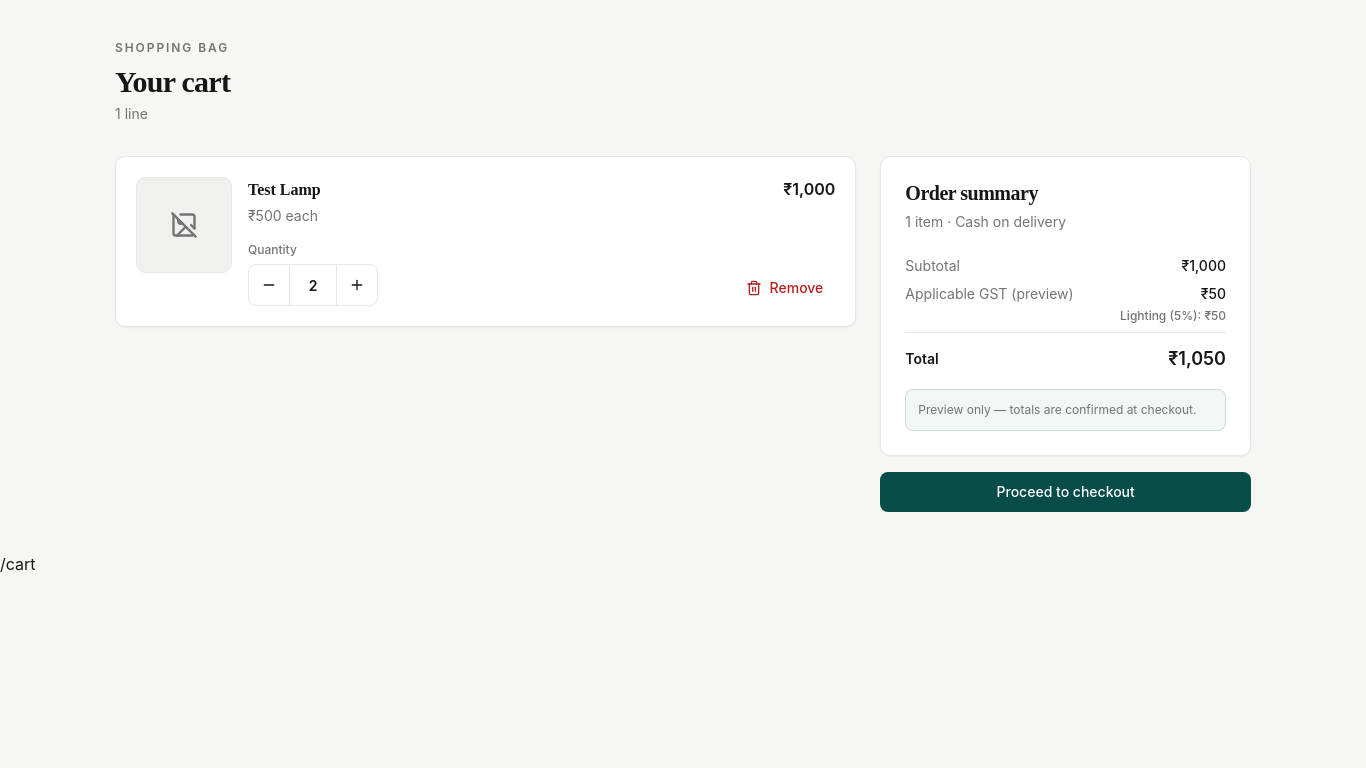
Test: CartPage › removes an item only after confirmation
Expected: the link "Test Lamp" is shown, [248,181,321,198]
Click the button "Remove" at (784, 288), box [734,270,835,306]
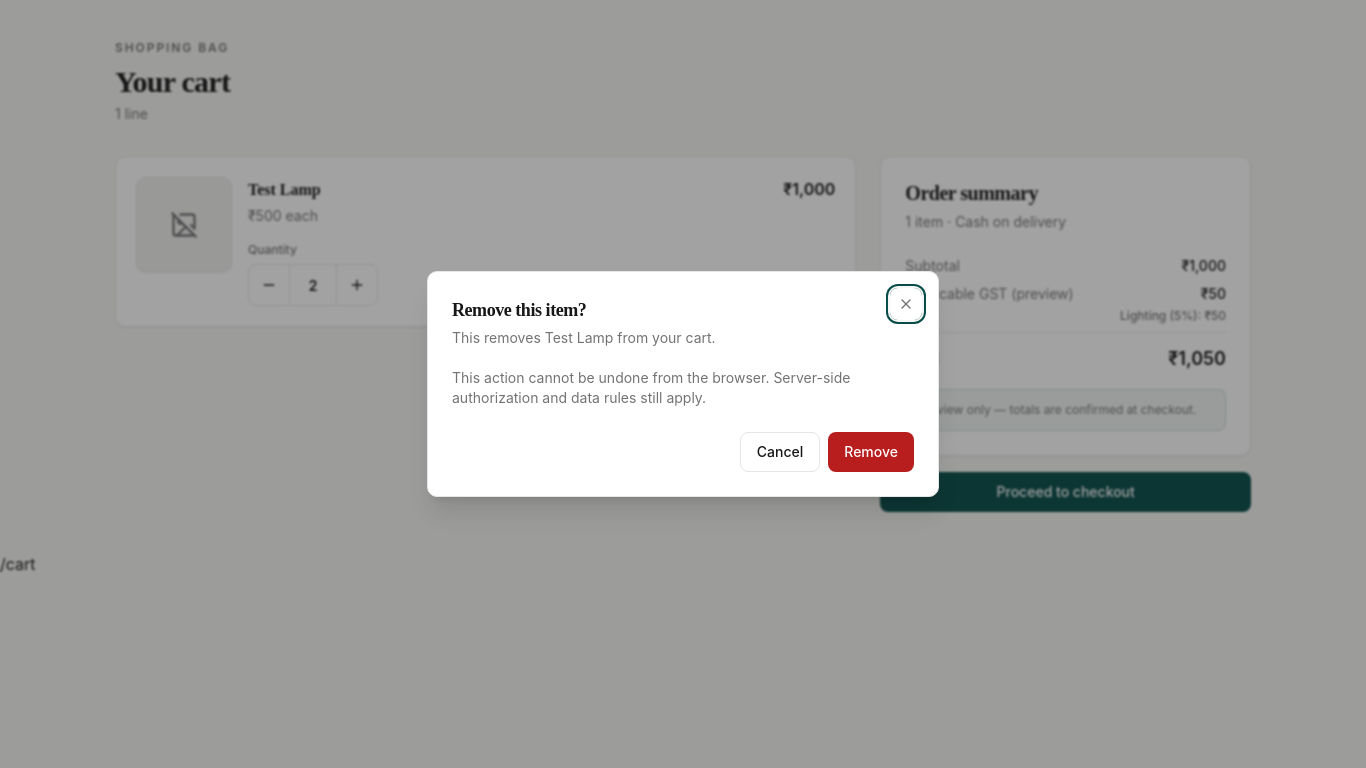
Expected: the text "This removes Test Lamp from your cart." is shown, [452,329,716,346]
Click the button "Remove" at (871, 452), box [828,432,914,472]
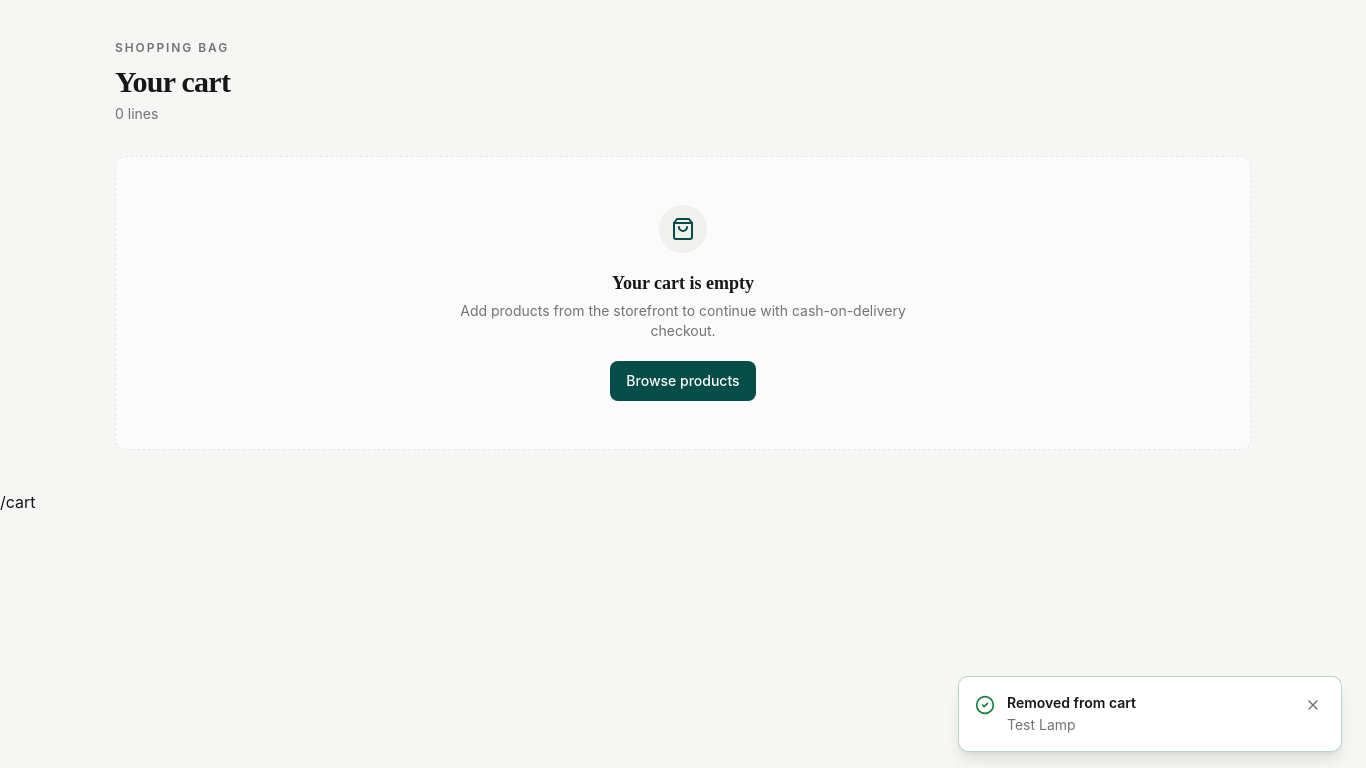
Expected: the text "Removed from cart" is shown, [1007,694,1136,711]
Expected: the heading "Your cart is empty" is shown, [612,269,754,297]
